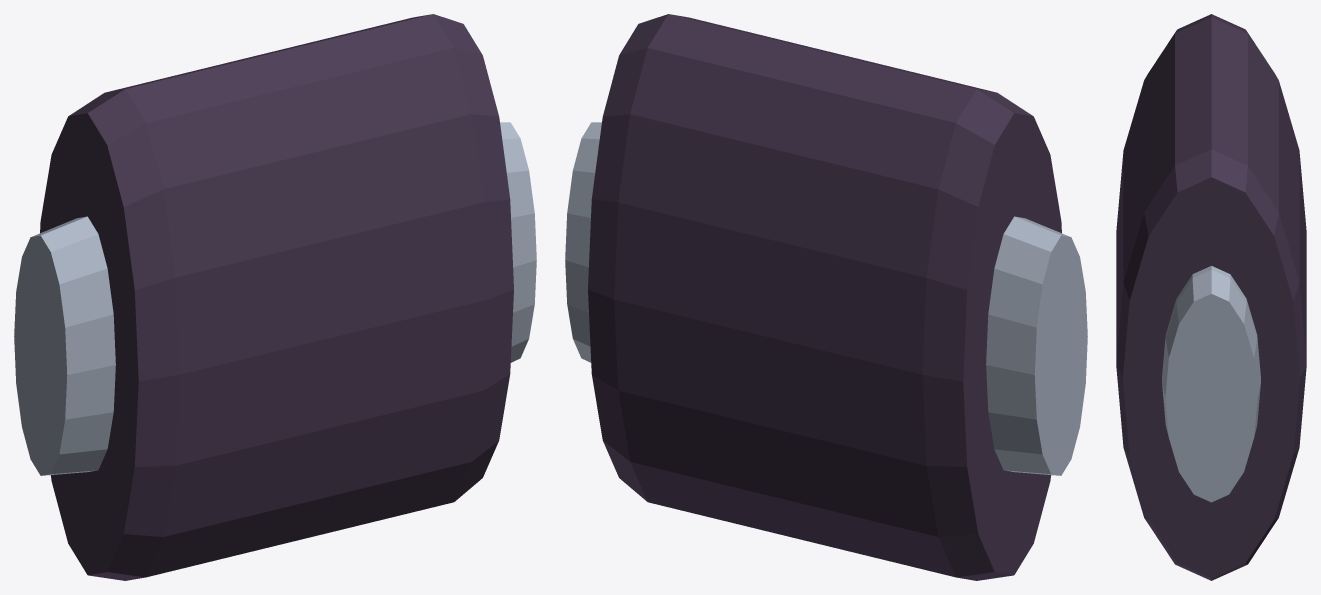
The model's file is scooter_wheel.glb.
3 views of the same model, side by side, from view 1: azimuth 30°, elevation 25°; view 2: azimuth 150°, elevation 25°; view 3: azimuth 270°, elevation 25° (orthographic). The views are drawn at different scales.
Visible parts, largest first — view 1: tire, hub; view 2: tire, hub; view 3: tire, hub.
Part boxes in pixels (bbox=[...]): tire: bbox=[40, 14, 513, 580]; hub: bbox=[14, 122, 536, 475]; tire: bbox=[588, 14, 1061, 580]; hub: bbox=[565, 122, 1087, 475]; tire: bbox=[1116, 14, 1306, 580]; hub: bbox=[1162, 266, 1260, 502].
Bounding box in the file's own units: 0.3 × 0.3 × 0.12.
